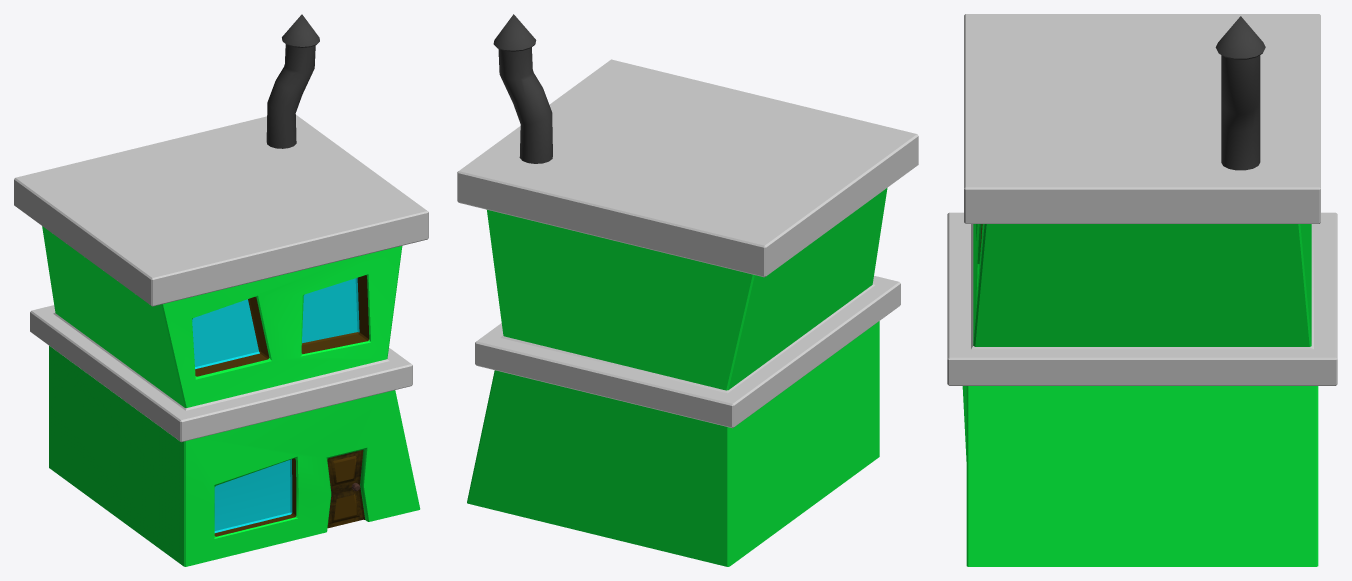
The model's file is PredioPequeno-VerdeClaroLOD0.fbx.
3 views of the same model, side by side, from view 1: azimuth 30°, elevation 25°; view 2: azimuth 150°, elevation 25°; view 3: azimuth 270°, elevation 25° (orthographic). The views are drawn at different scales.
Parts seen in each view (by area): view 1: Predio2Andares; view 2: Predio2Andares; view 3: Predio2Andares.
Boxes of the visible parts, <box> form: Predio2Andares: <box>14,14,428,566</box>; Predio2Andares: <box>457,14,918,566</box>; Predio2Andares: <box>947,14,1337,566</box>.
Size of the model in its own units: 715 by 1035 by 675.
